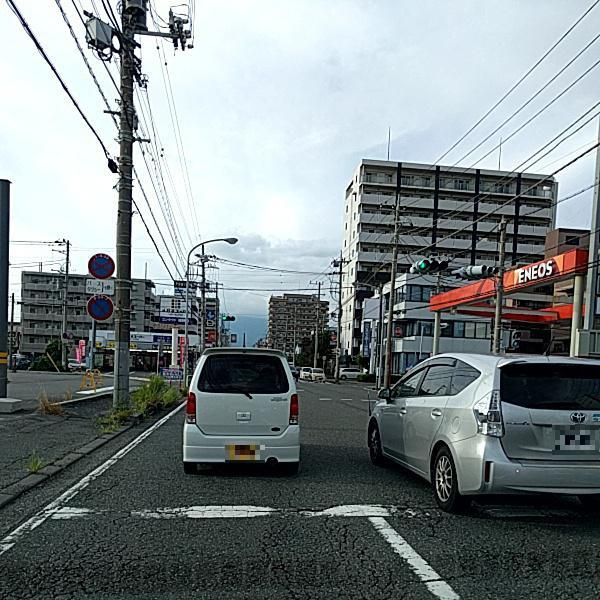D20: (2, 486, 456, 599)
